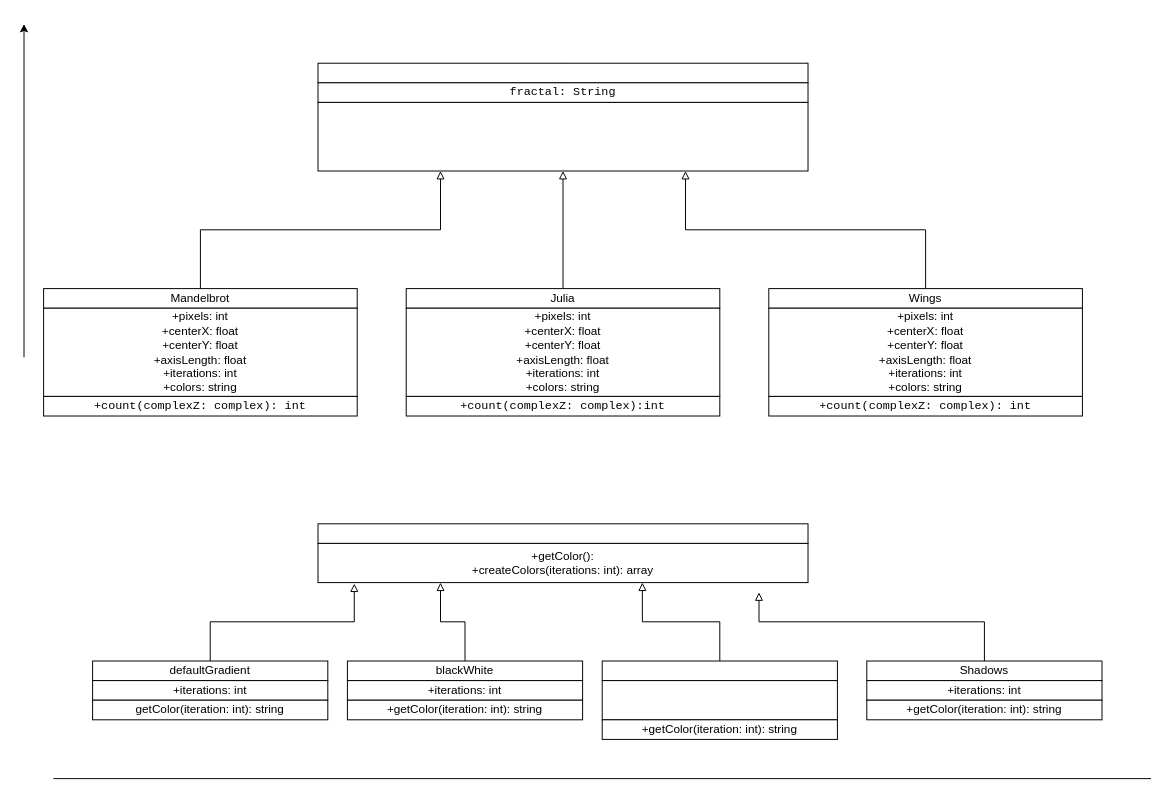
Some shapes in this 1169 by 797 pixel diagram are drawn without their labels. Each missing label, with the centre of its shape:
+iterations: int +cycles: int: pixel 719 700
count(): main(name: string): alignCoords(type: boolean): tuple paint():: pixel 562 136
Fractal: pixel 562 72
Pallette: pixel 562 533
repeatingColors: pixel 719 670
